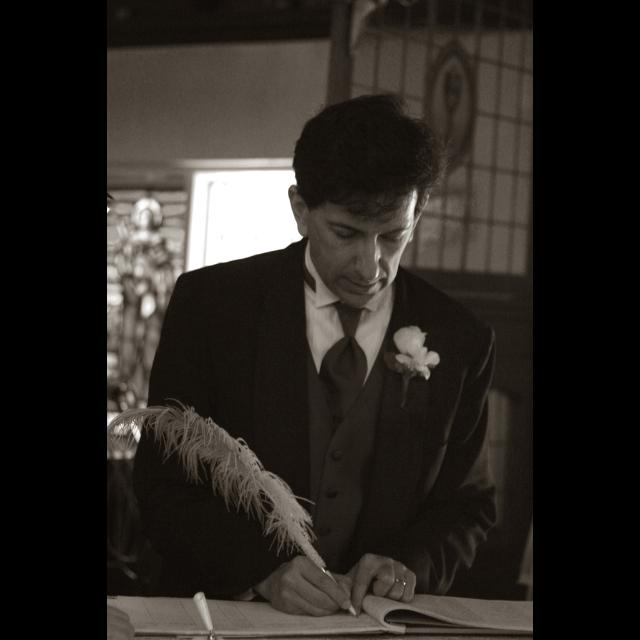Flower: (380, 318, 452, 388)
